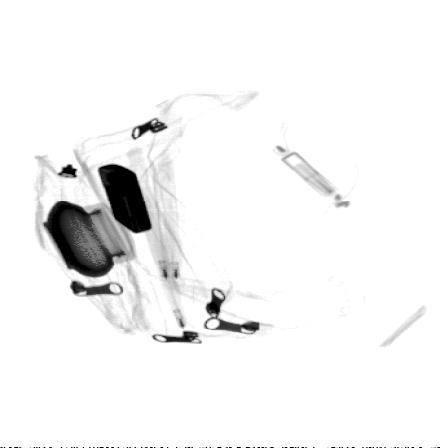Lighter: (98, 163, 153, 233)
